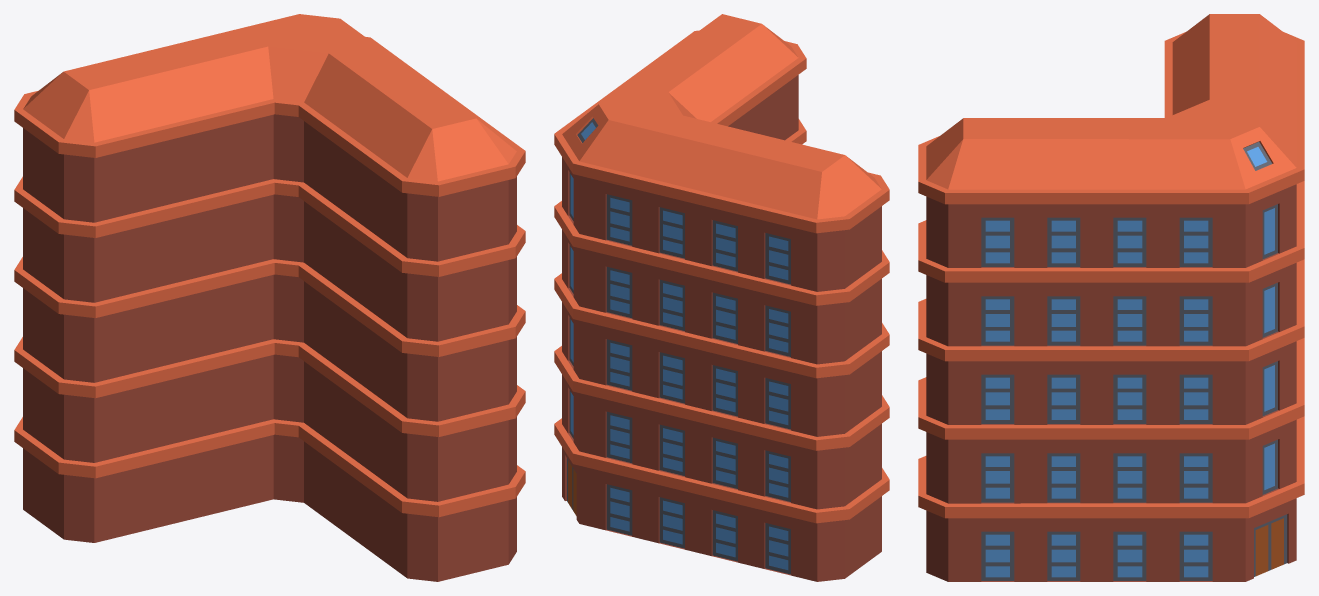
3 views of the same model, side by side, from view 1: azimuth 30°, elevation 25°; view 2: azimuth 150°, elevation 25°; view 3: azimuth 270°, elevation 25° (orthographic). The views are drawn at different scales.
Visible parts, largest first — view 1: Predio 6; view 2: Predio 6; view 3: Predio 6.
Part boxes in pixels (x1,y1,x2,y2): Predio 6: (14,14,525,581); Predio 6: (554,14,889,581); Predio 6: (918,14,1304,581).
Bounding box in the file's own units: 8946 × 10915 × 8946.
